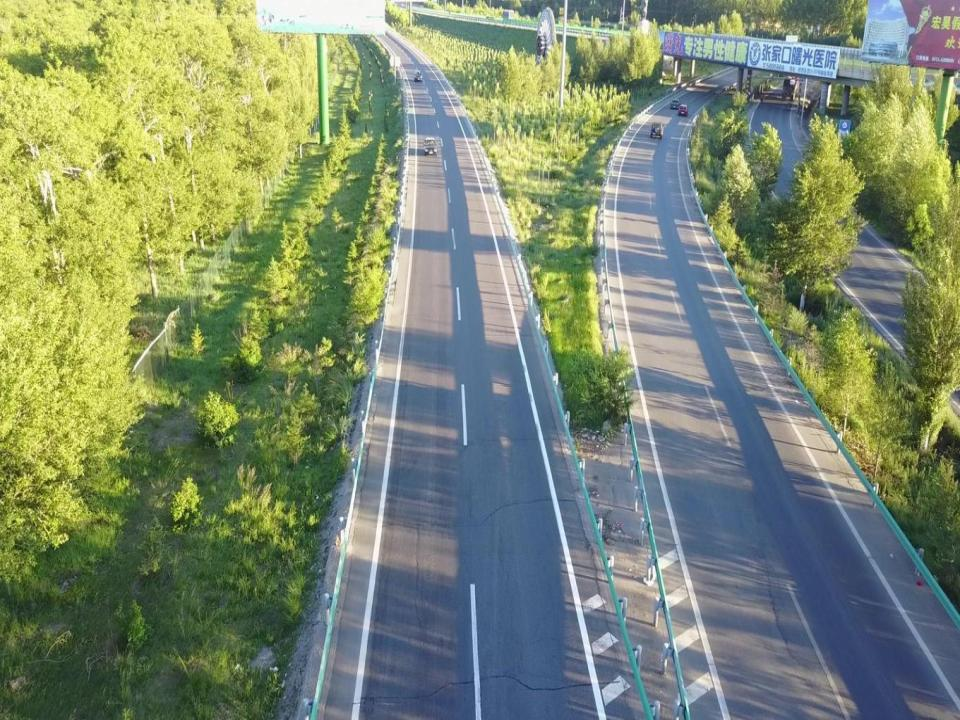car: (670, 99, 680, 109)
truck: (782, 70, 799, 99), (650, 122, 664, 139)
van: (422, 138, 438, 156), (678, 105, 688, 116), (414, 71, 422, 81)
